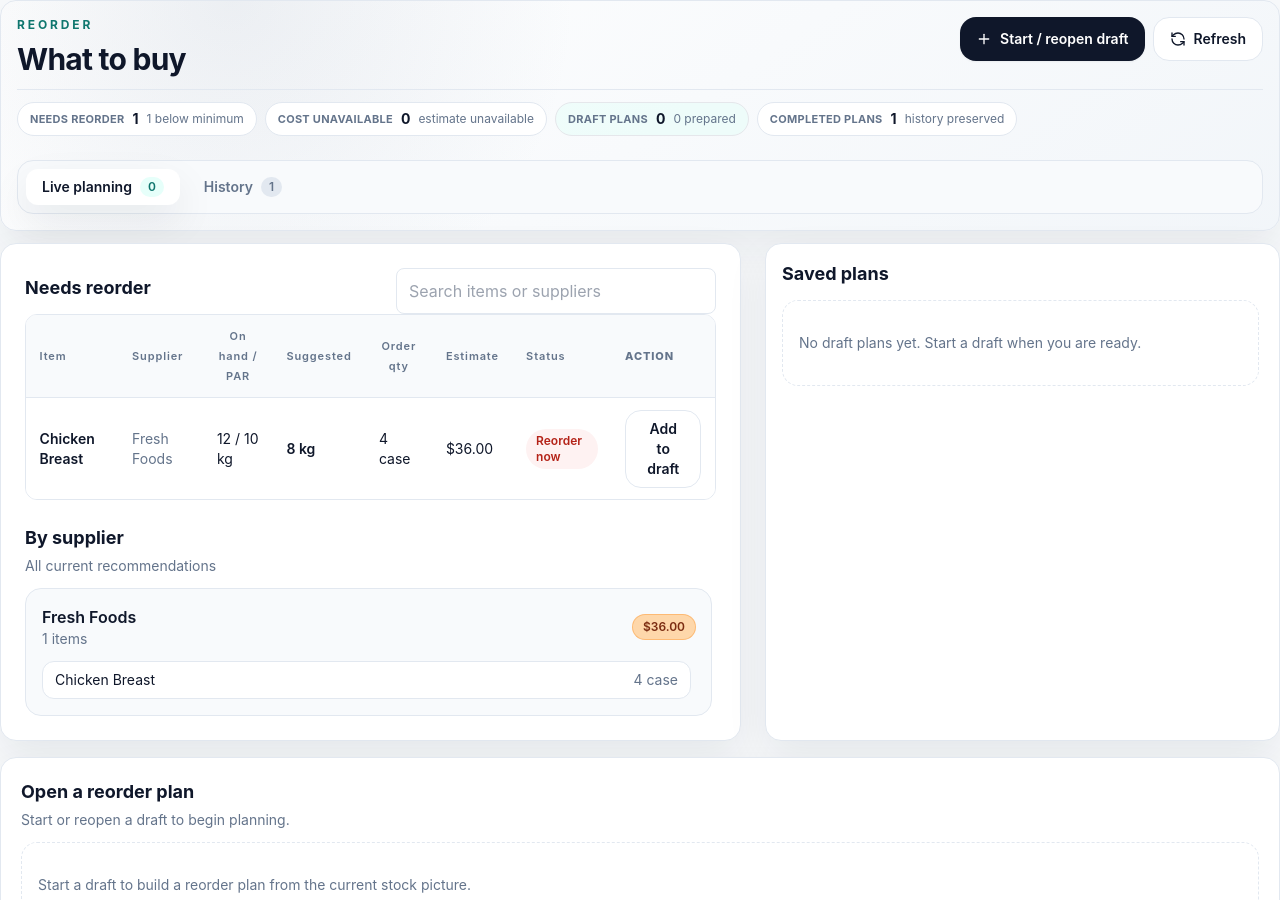
Test: PilotReorderPlanPage › adds a live recommendation on the first click, creating a draft when needed
This screenshot has width=1280, height=900.
Click the button "Add to draft" at point(663, 449), box x1=625 y1=410 x2=701 y2=488
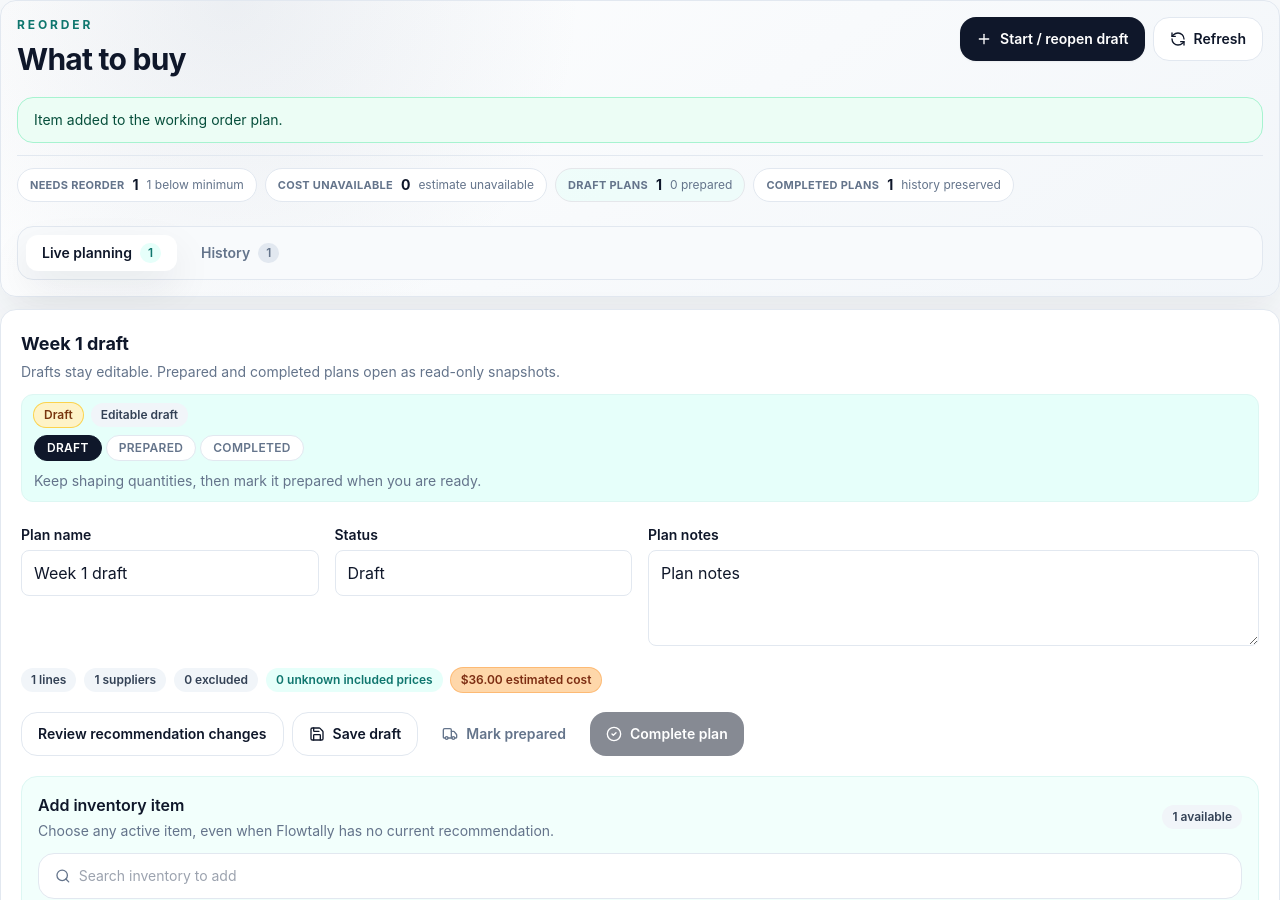
Check: the text "Item added to the working order plan." is shown, box x1=17 y1=97 x2=1263 y2=143
